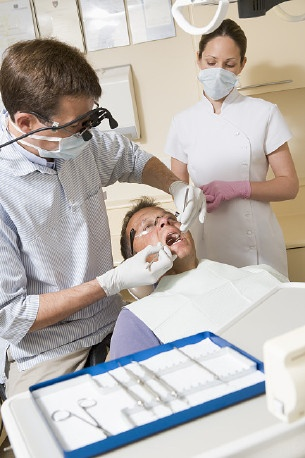Mask: (198, 54, 244, 99)
